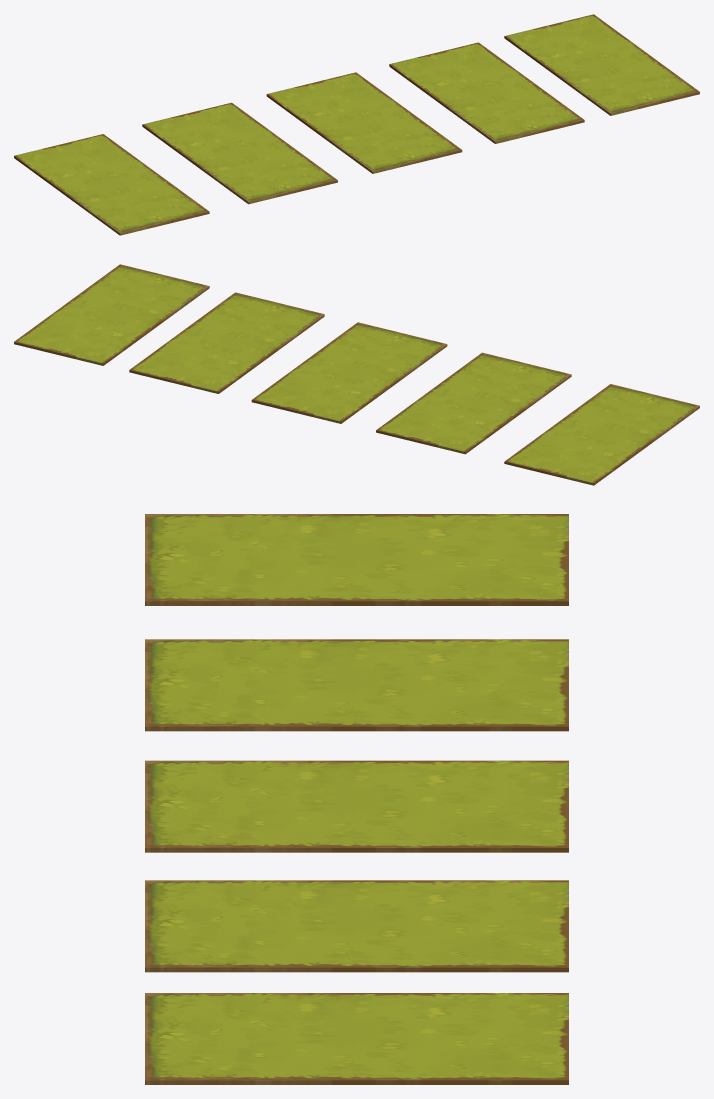
File: Field.fbx
3 renders of one model, top to bottom at view 1: azimuth 30°, elevation 25°; view 2: azimuth 150°, elevation 25°; view 3: azimuth 270°, elevation 25°, orthographic. The views are drawn at different scales.
Visible parts, largest first — view 1: Plane.008, Plane.010, Plane.007, Plane.006, Plane.009; view 2: Plane.008, Plane.010, Plane.007, Plane.006, Plane.009; view 3: Plane.006, Plane.008, Plane.009, Plane.010, Plane.007.
Boxes of the visible parts, x1,y1,x2,y2 form: Plane.008: (266, 72, 462, 173); Plane.010: (14, 134, 209, 235); Plane.007: (504, 14, 699, 115); Plane.006: (389, 42, 584, 143); Plane.009: (142, 102, 337, 204); Plane.008: (251, 322, 447, 423); Plane.010: (504, 384, 699, 485); Plane.007: (14, 264, 209, 365); Plane.006: (129, 292, 324, 393); Plane.009: (376, 352, 571, 454); Plane.006: (145, 880, 568, 972); Plane.008: (145, 760, 568, 852); Plane.009: (145, 639, 568, 731); Plane.010: (145, 514, 568, 605); Plane.007: (145, 993, 568, 1084).
Bounding box in the file's own units: 3507 × 13.52 × 1111.
